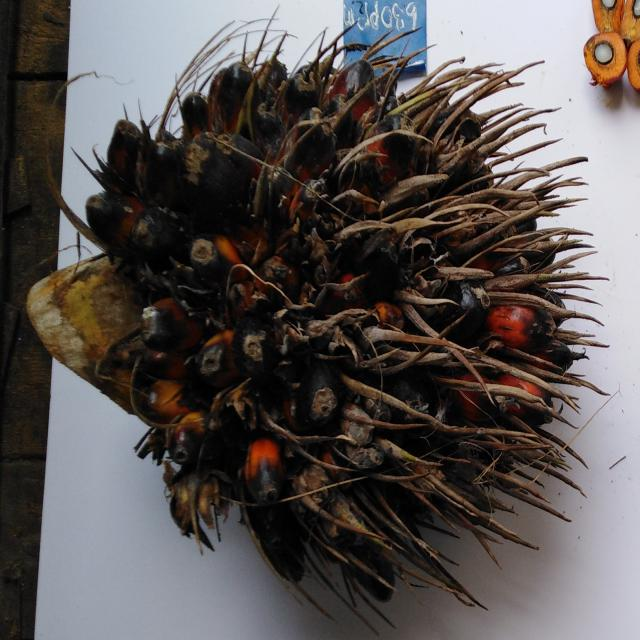FFB: (88, 61, 574, 563)
